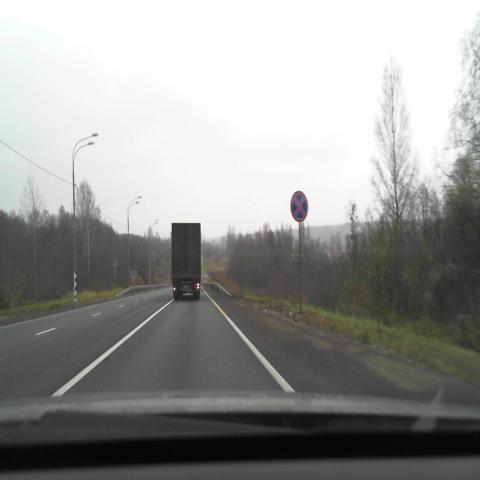3_27: (290, 191, 308, 222)
